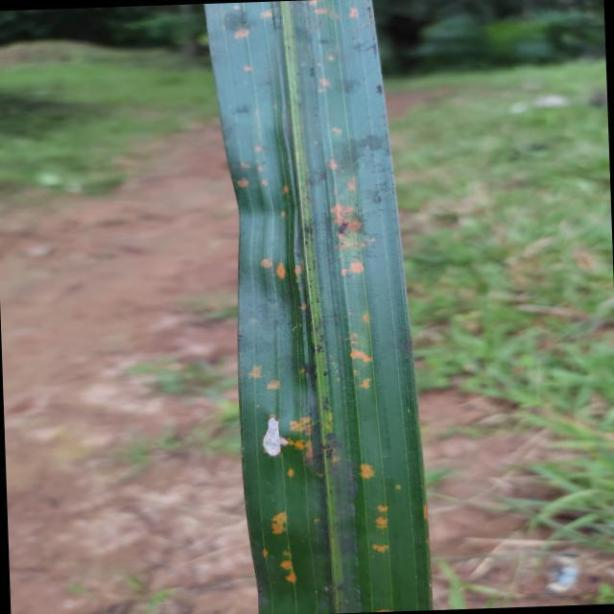Kalium: (208, 0, 435, 614)
